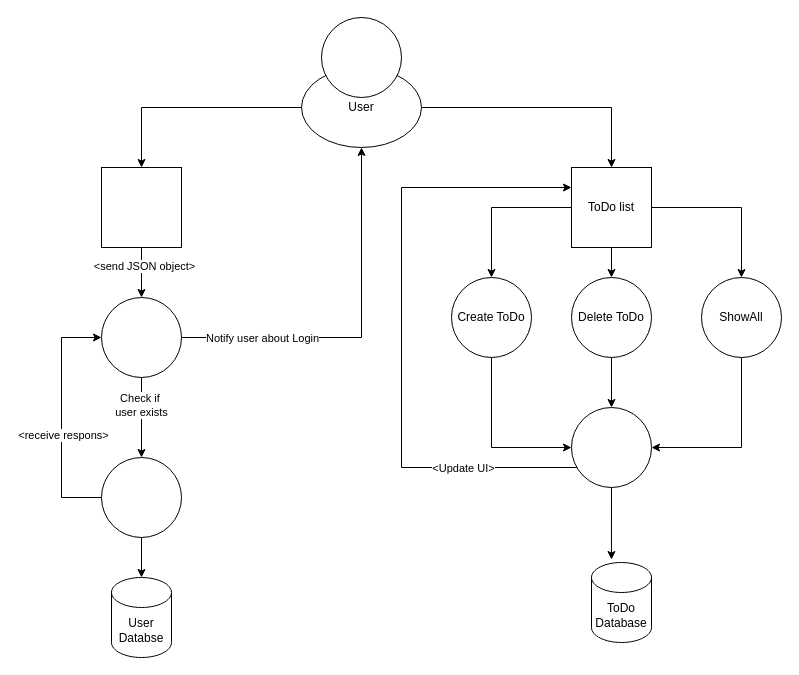
The diagram is 799 pixels wide and 675 high, and some of its shapes have lost their labels. The shapes that lost their labels are listed below. From the top down, each one's centre as x and y in pixels, then its label:
point (141, 207): Login
point (141, 337): Login REST API
point (611, 447): ToDo list API
point (141, 497): User API
